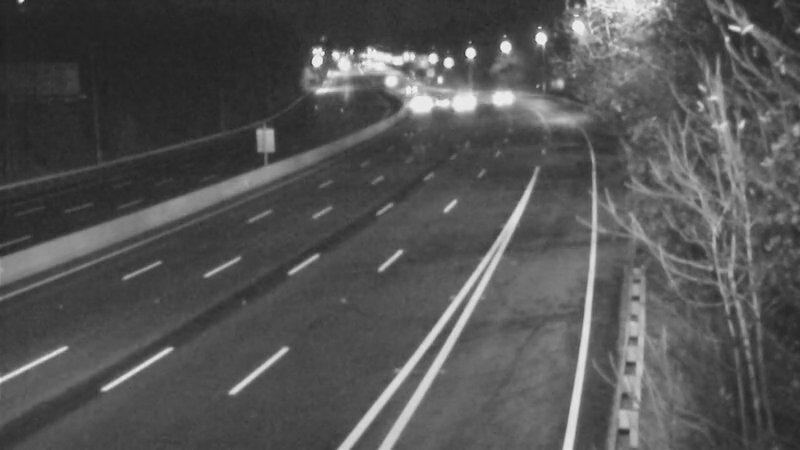vehicle: (366, 53, 416, 103), (380, 61, 430, 111), (473, 72, 523, 122), (435, 74, 485, 124), (411, 77, 461, 127), (392, 79, 442, 129)
